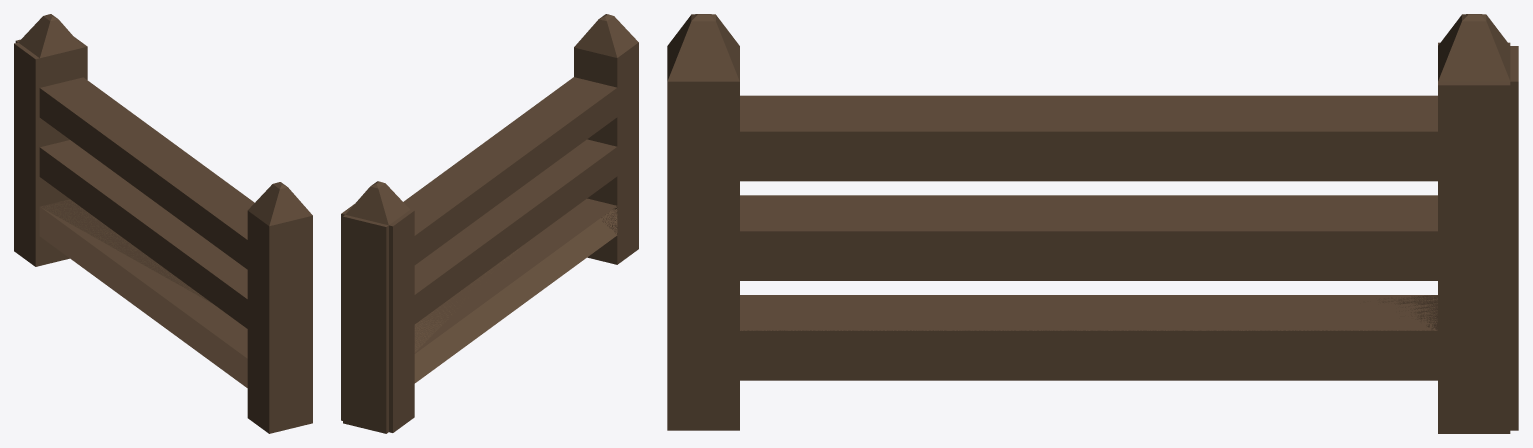
The model's file is Gate (Still).fbx.
3 renders of one model, left to right at view 1: azimuth 30°, elevation 25°; view 2: azimuth 150°, elevation 25°; view 3: azimuth 270°, elevation 25°, orthographic. The views are drawn at different scales.
Parts seen in each view (by area): view 1: Gate (Still); view 2: Gate (Still); view 3: Gate (Still).
Part boxes in pixels (x1,y1,x2,y2): Gate (Still): (14, 14, 312, 433); Gate (Still): (341, 14, 638, 433); Gate (Still): (667, 14, 1518, 433).
Bounding box in the file's own units: 83.12 × 362 × 701.
